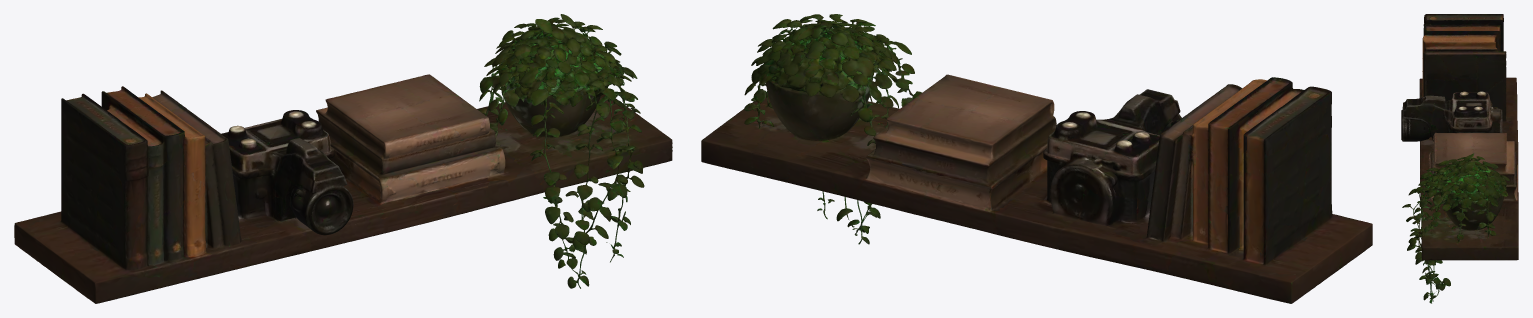
File: wall-shelf.glb
3 renders of one model, left to right at view 1: azimuth 30°, elevation 25°; view 2: azimuth 150°, elevation 25°; view 3: azimuth 270°, elevation 25°, orthographic. The views are drawn at different scales.
Size of the model in its own units: 1.9 by 0.8099 by 0.5551.
1 material, 1 textured.
